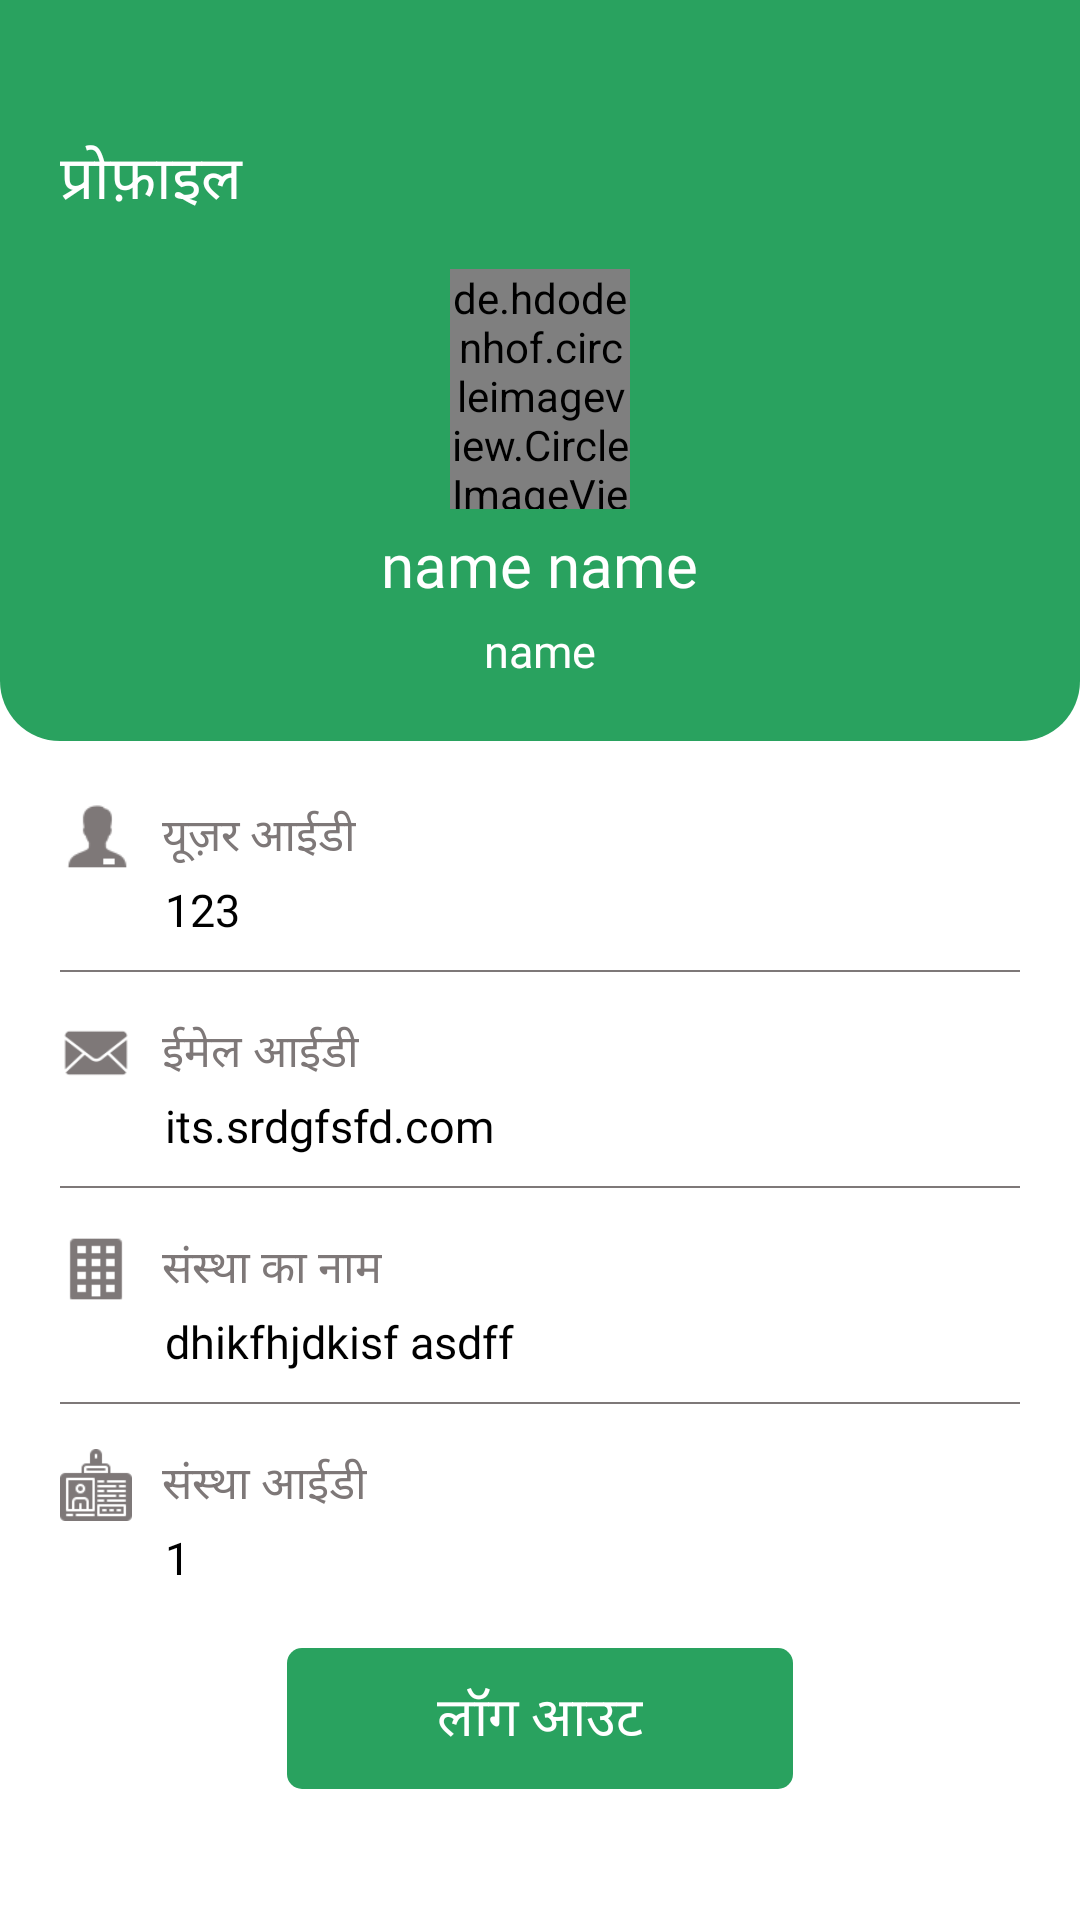

Locate icon controls on the screen. Image size 1080px x 1920px, boxes as Rect(x1, y1, x2, y2).
email: Rect(64, 1031, 128, 1075)
organization: Rect(70, 1238, 122, 1300)
user id: Rect(68, 805, 127, 868)
